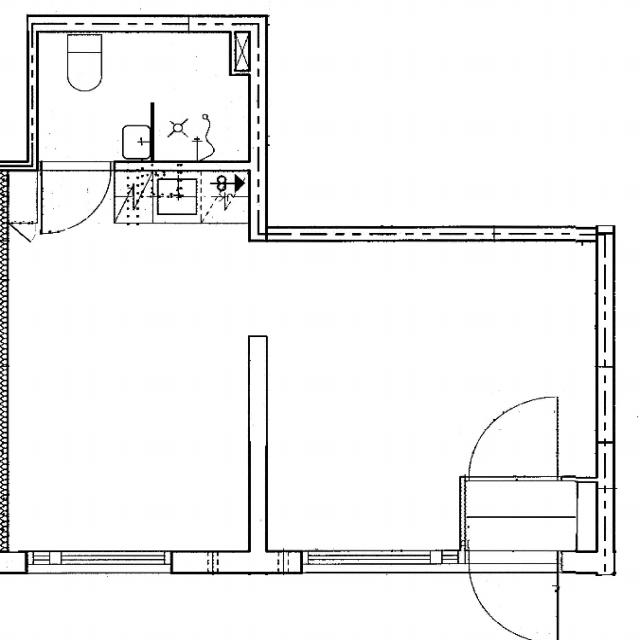door: (468, 551, 558, 640), (468, 396, 556, 481), (40, 160, 110, 234)
